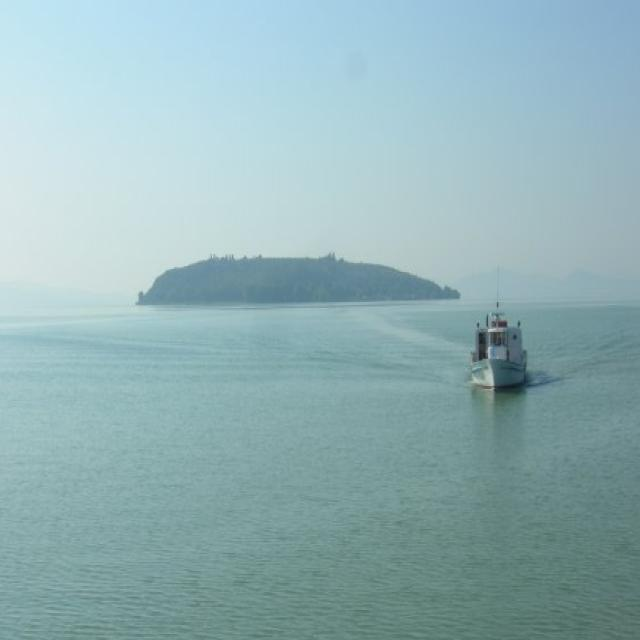houseboat: (463, 276, 535, 393)
island: (134, 244, 463, 309)
